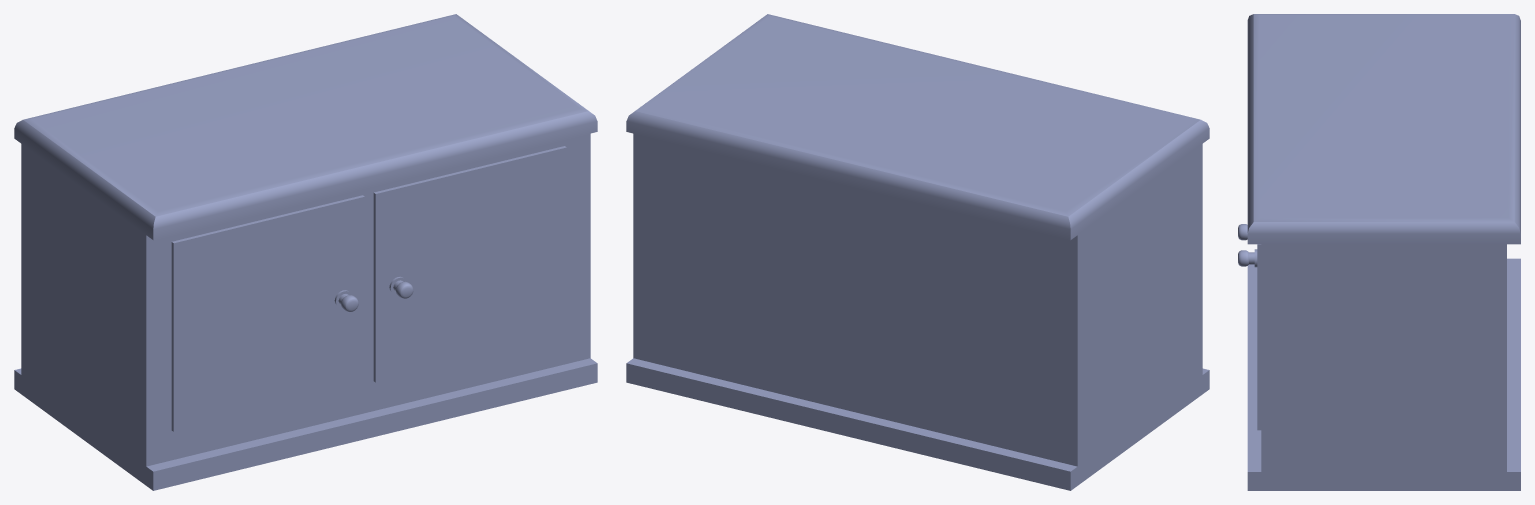
Rendered from station 4.fbx.
The picture shows the model from 3 angles, left to right: view 1: azimuth 30°, elevation 25°; view 2: azimuth 150°, elevation 25°; view 3: azimuth 270°, elevation 25°; orthographic projection.
Visible parts, largest first — view 1: group3_cabinet_base2; view 2: group3_cabinet_base2; view 3: group3_cabinet_base2.
Part boxes in pixels (x1,y1,x2,y2): group3_cabinet_base2: (14,14,597,490); group3_cabinet_base2: (626,14,1209,490); group3_cabinet_base2: (1238,14,1520,490).
Bounding box in the file's own units: 99.74 × 58.36 × 55.86.
